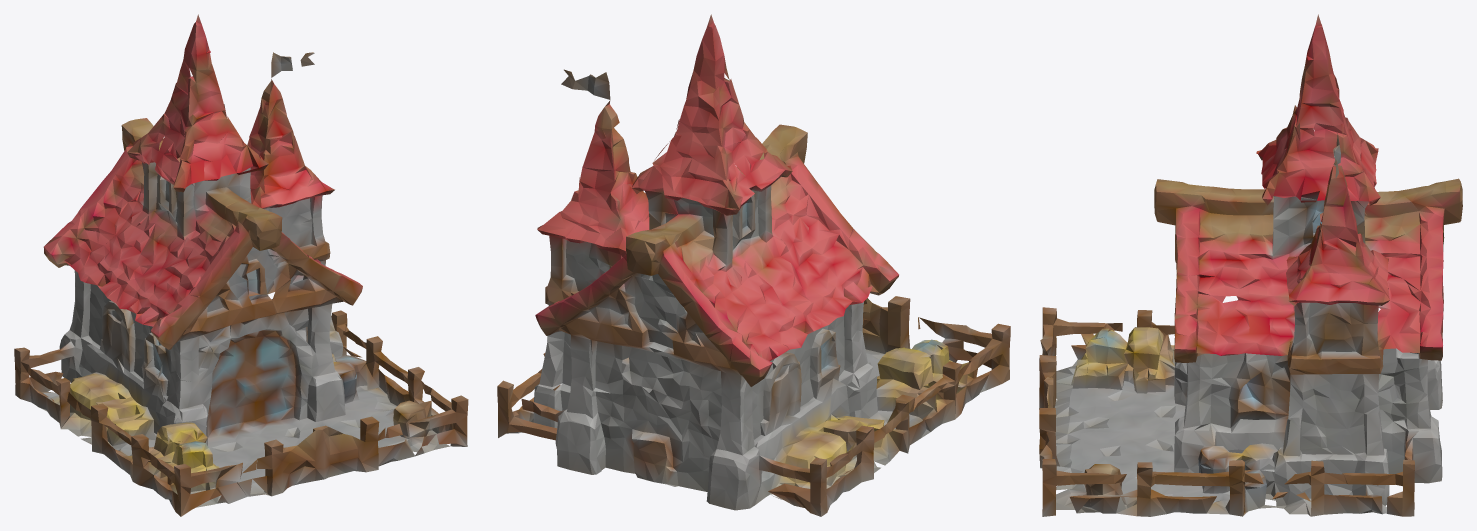
File: building_royal_stable_lod2.glb
The picture shows the model from 3 angles, left to right: view 1: azimuth 30°, elevation 25°; view 2: azimuth 150°, elevation 25°; view 3: azimuth 270°, elevation 25°; orthographic projection. The views are drawn at different scales.
Visible parts, largest first — view 1: world; view 2: world; view 3: world.
Boxes of the visible parts, bbox=[...] form: world: bbox=[14, 14, 468, 516]; world: bbox=[497, 14, 1010, 516]; world: bbox=[1039, 14, 1462, 516].
Bounding box in the file's own units: 1.52 × 1.9 × 1.72.
